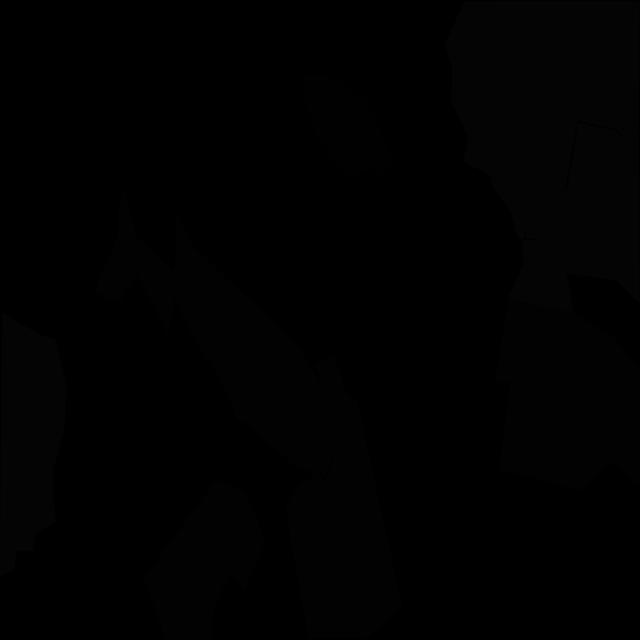cardboard: (174, 213, 346, 479), (286, 355, 402, 639), (494, 299, 640, 491), (144, 480, 265, 640), (94, 189, 174, 336)
rigid_plastic: (302, 73, 392, 180)
soft_plastic: (444, 0, 640, 240), (525, 122, 640, 304), (0, 312, 66, 577), (508, 240, 574, 313)
